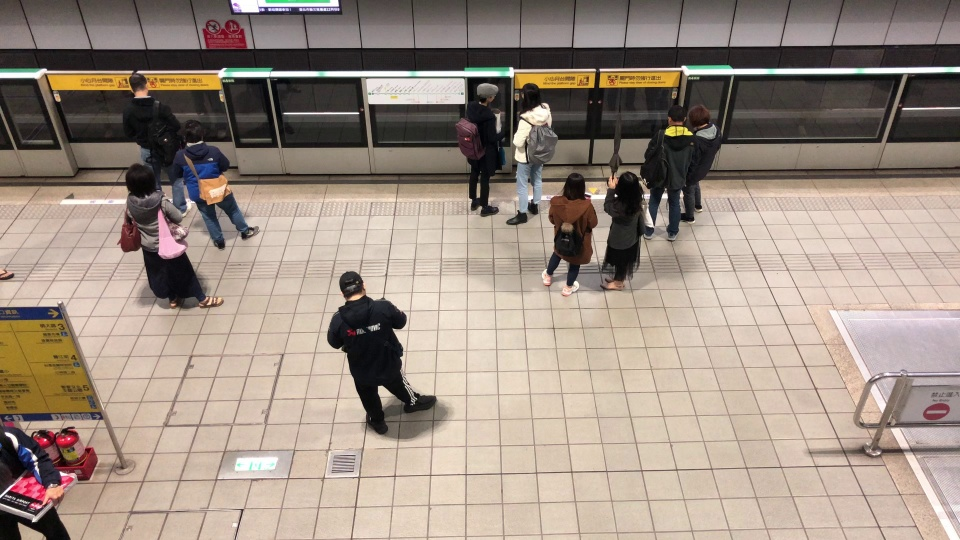person_head: (124, 162, 156, 194), (337, 268, 367, 301), (687, 102, 710, 128), (616, 170, 638, 197), (474, 81, 499, 104), (563, 172, 585, 197), (183, 118, 203, 143), (665, 104, 687, 126), (128, 73, 149, 96), (519, 81, 540, 103)
person_vbox: (326, 269, 436, 434), (115, 160, 224, 309), (172, 119, 260, 250), (122, 72, 192, 218), (600, 103, 653, 291), (0, 424, 79, 540), (641, 104, 700, 241), (504, 82, 558, 225), (541, 172, 598, 296), (454, 83, 506, 218), (678, 102, 721, 224)
